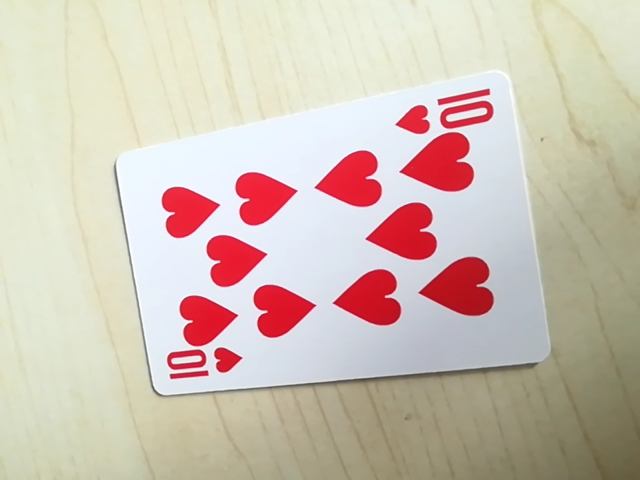hx 10: (395, 87, 503, 135), (159, 342, 245, 392)
